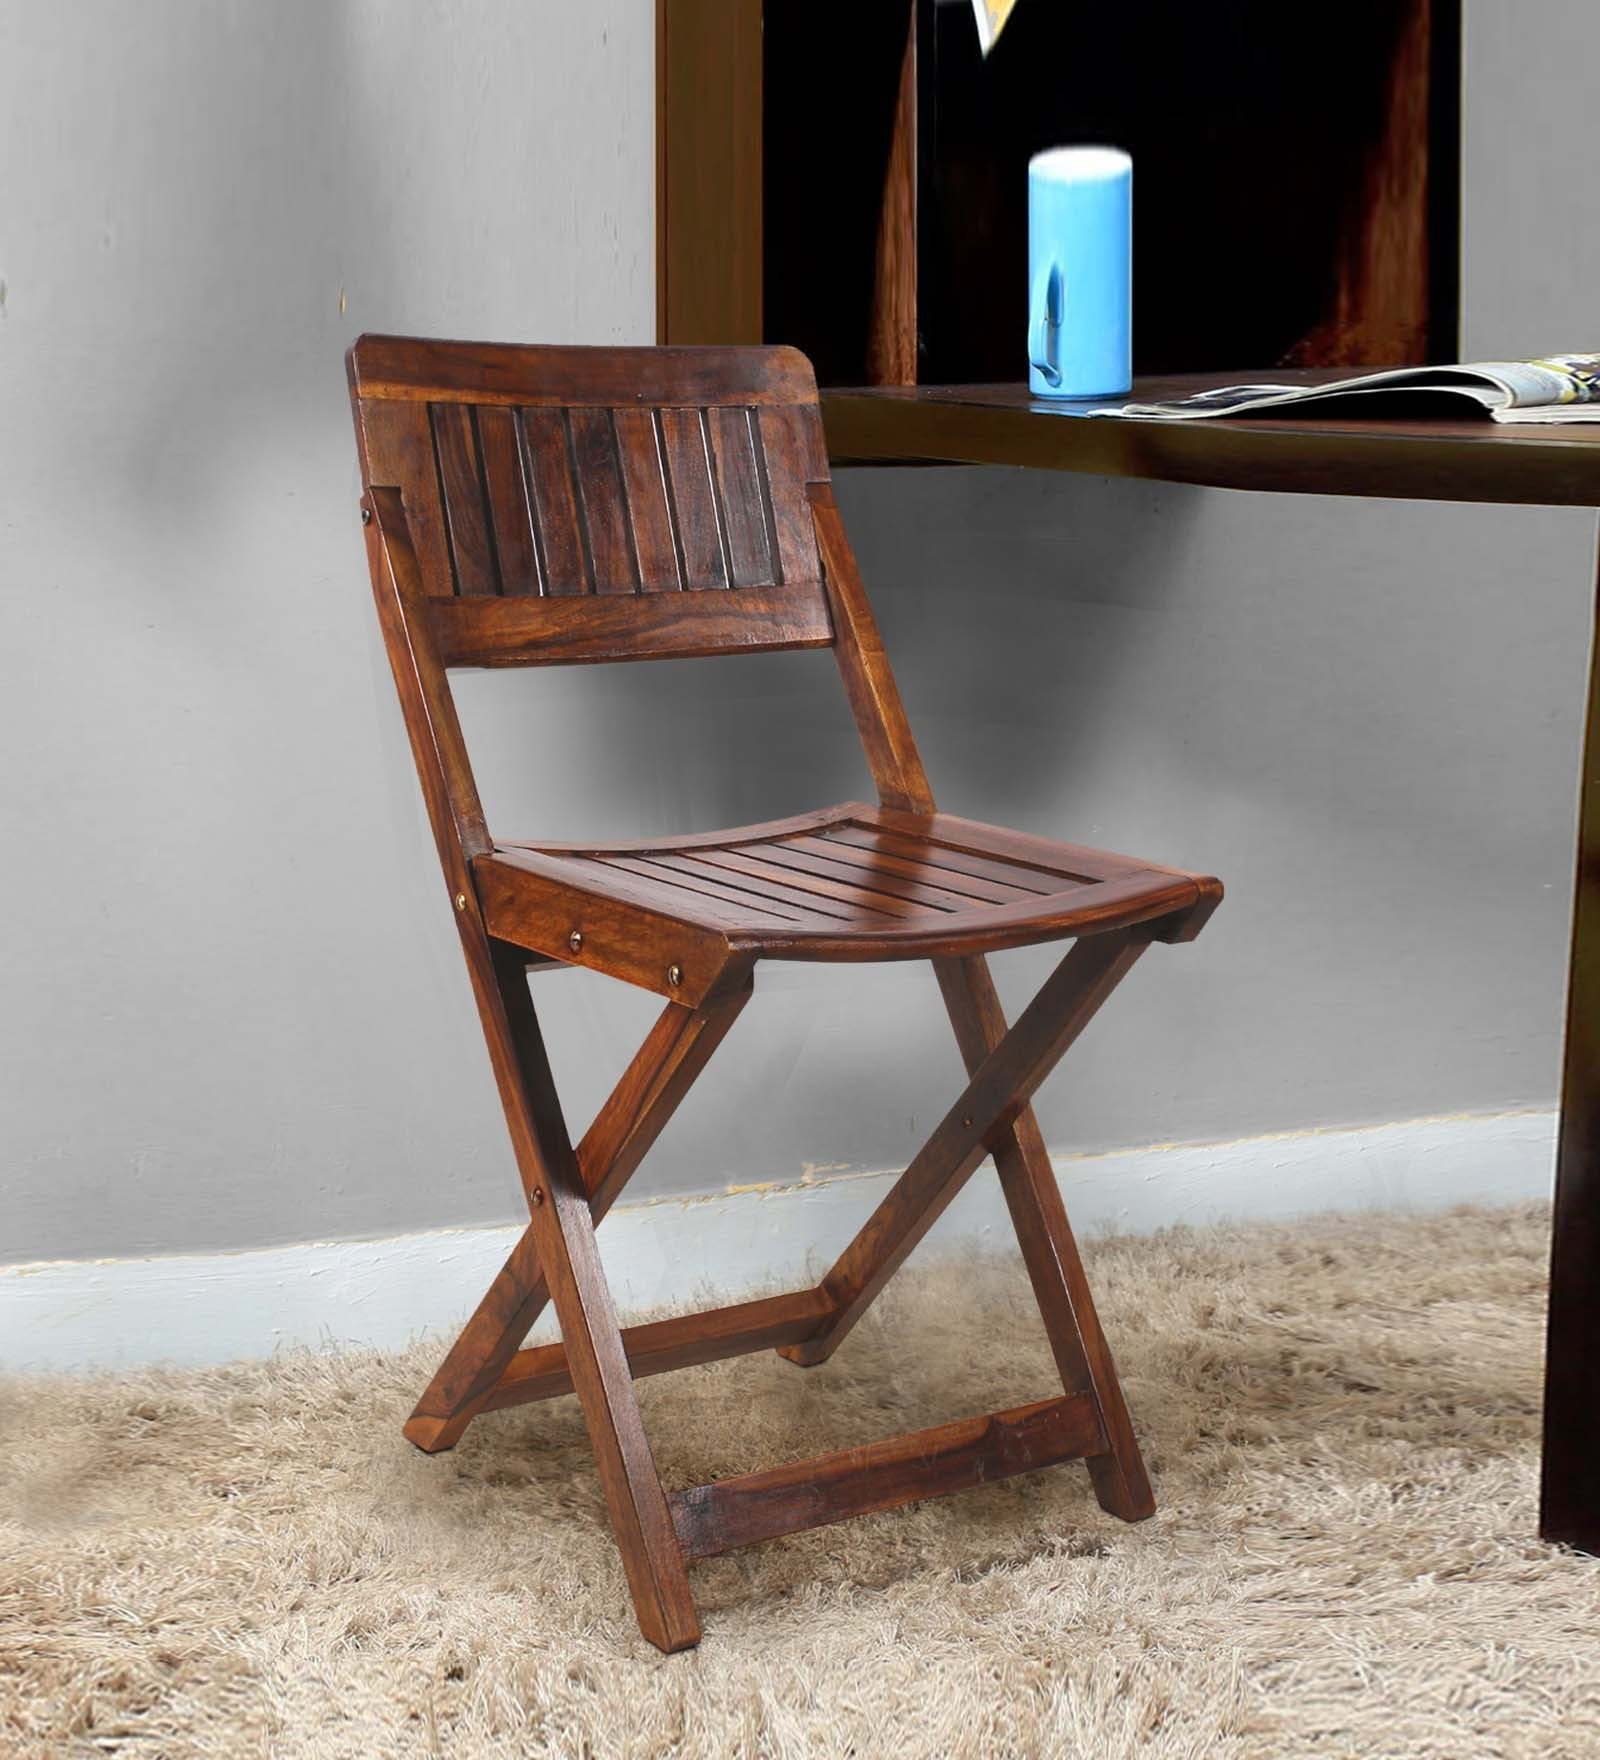Sheesham Wood Folding Chair in Walnut Finish by VarEesha: (282, 253, 1264, 1633)
